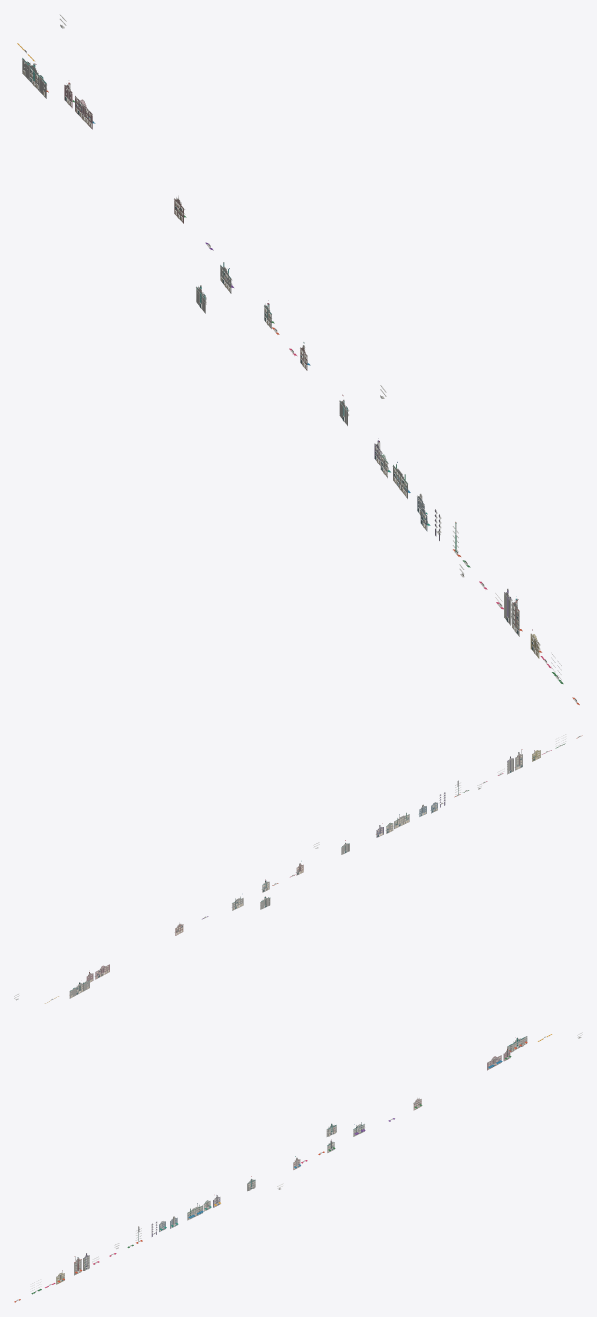
File: facades-hybrid.glb
3 views of the same model, one above another, from view 1: azimuth 30°, elevation 25°; view 2: azimuth 150°, elevation 25°; view 3: azimuth 330°, elevation 25° (orthographic). The views are drawn at different scales.
Parts seen in each view (by area): view 1: OceanDrive_paint (×2); view 2: OceanDrive_paint (×3); view 3: OceanDrive_paint (×3).
Part boxes in pixels (box(x1,y1,x2,y2)): OceanDrive_paint (×2): box(300, 345, 577, 702); OceanDrive_paint (×3): box(175, 734, 580, 935); OceanDrive_paint (×3): box(16, 1098, 421, 1301).
Bounding box in the file's own units: 207 × 23.78 × 957.
